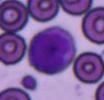M: (28, 26, 76, 74)
